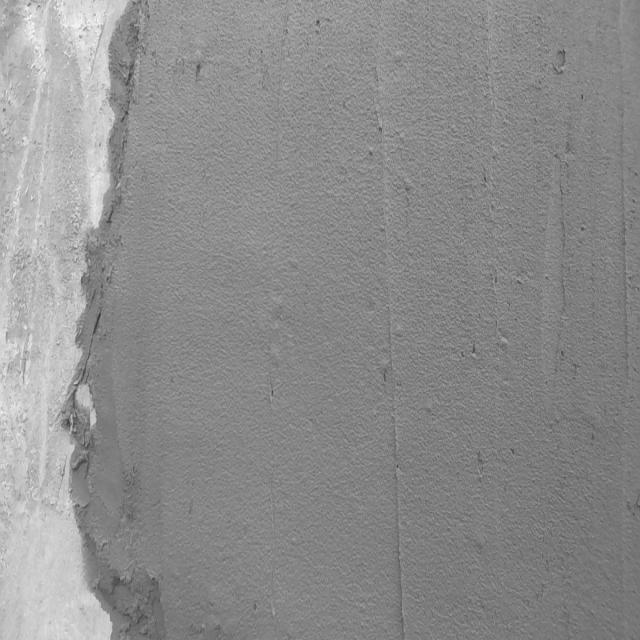trowels marks: (386, 306, 412, 640)
